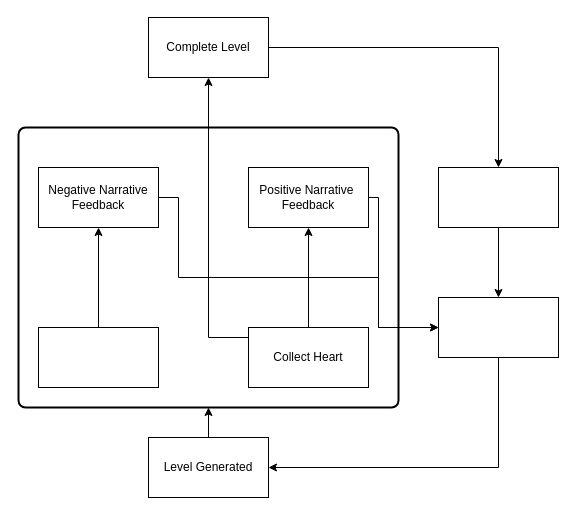
This 576x515 diagram has some shape labels left out. The box of each missing label's shape, as (x1, y1, x2, y2) in pixels:
Choose Abilty Upgrades: (438, 166, 558, 228)
Resolve Level Narrative: (438, 296, 558, 358)
Take Damage: (38, 326, 158, 388)
